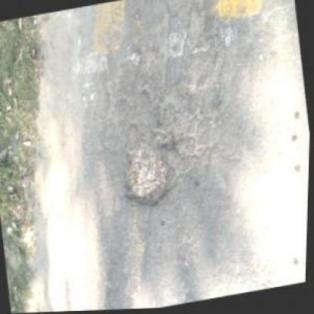Hueco: (116, 134, 176, 215), (151, 78, 200, 154)
